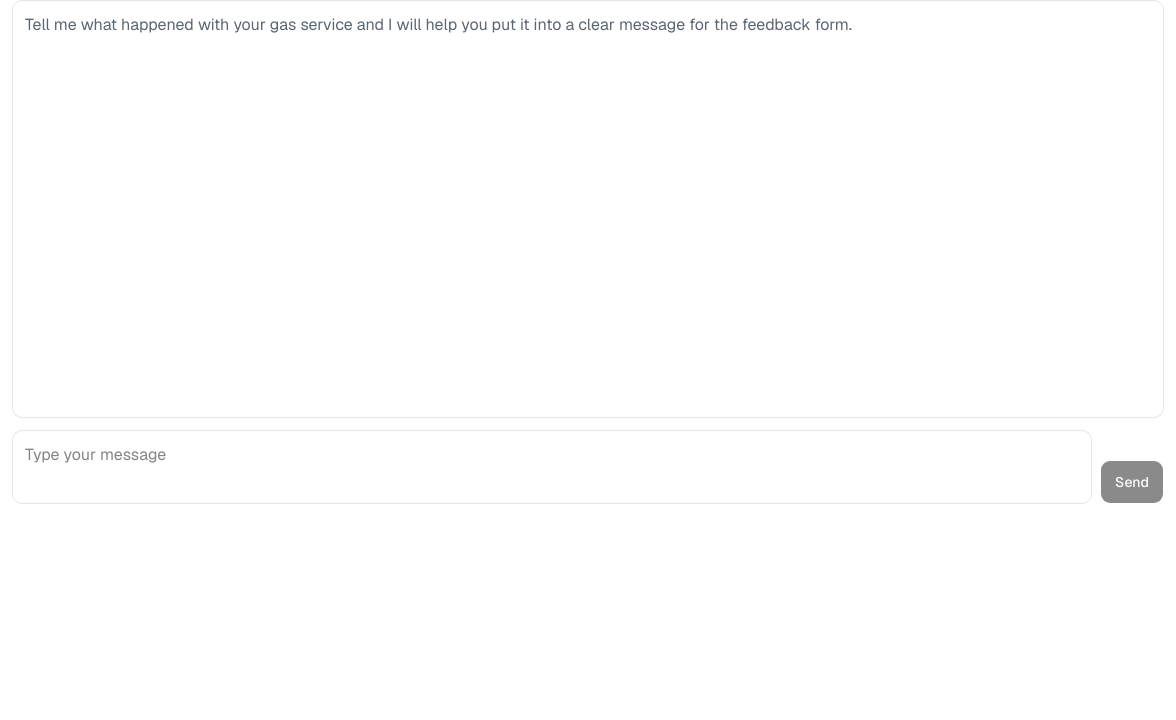
it: Chat › sends the trimmed text and clears the input
Type "  gas bill  " into the text box labelled "your message" at x=552, y=467, box [12,430,1092,504]
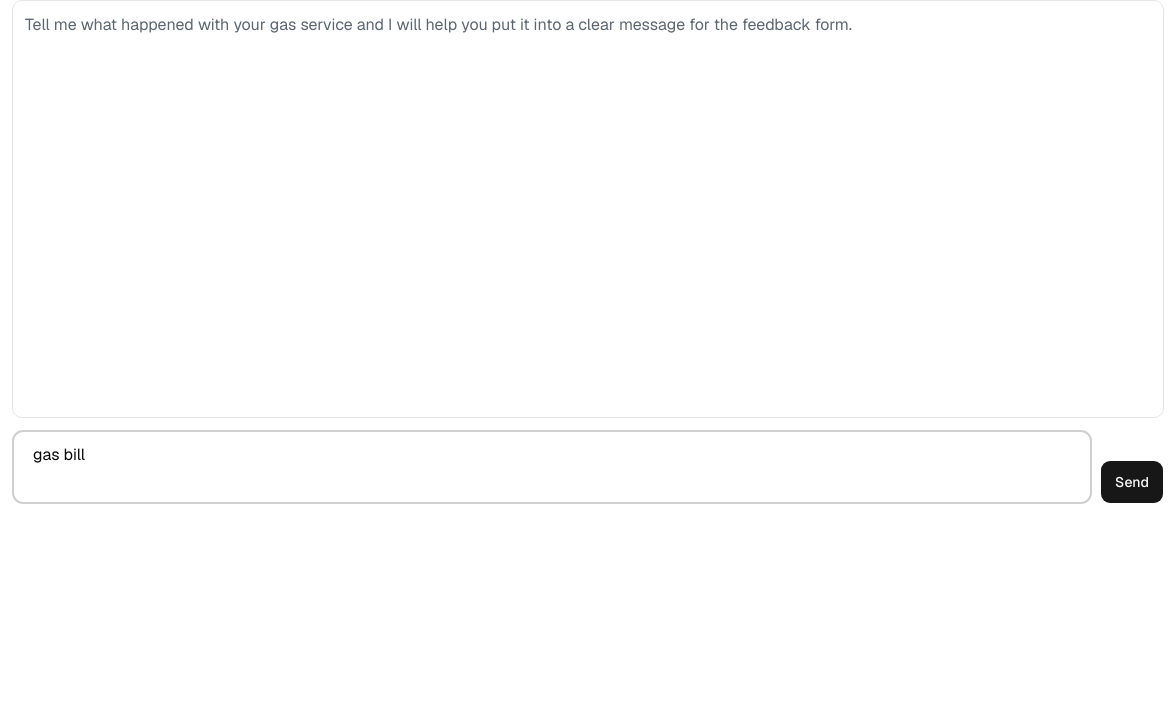
Click the button "Send" at x=1132, y=482, box [1100,460,1164,504]
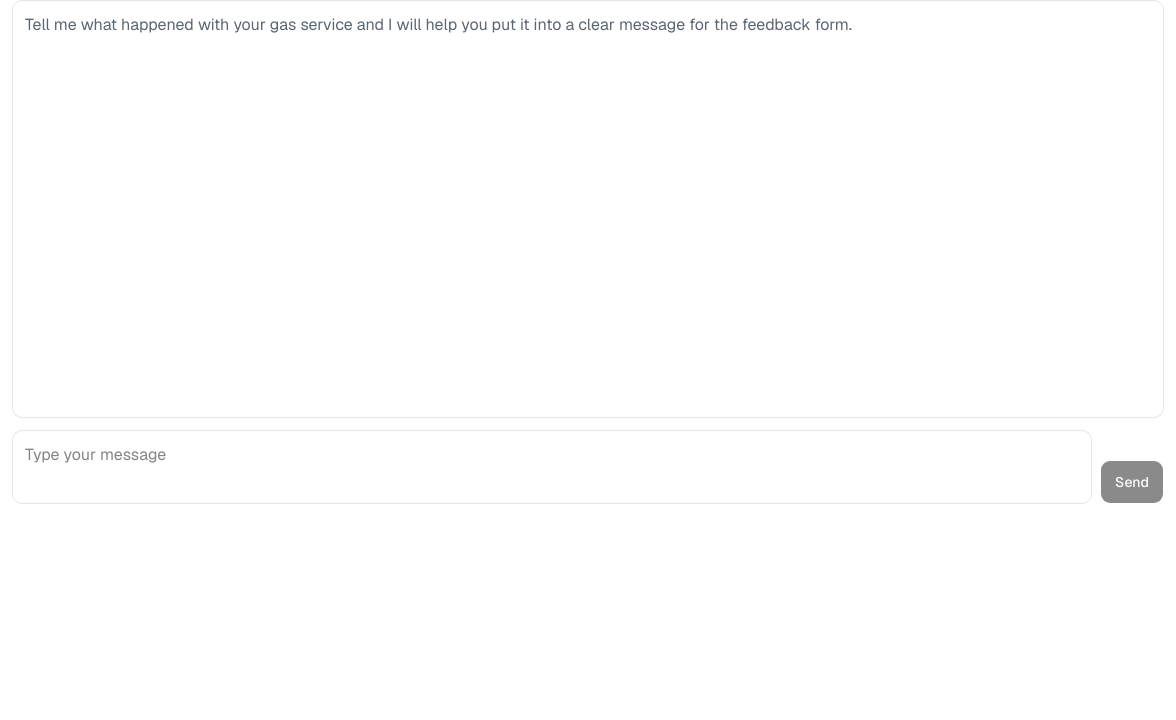
Now the text box labelled "your message" is empty, box [12,430,1092,504]
